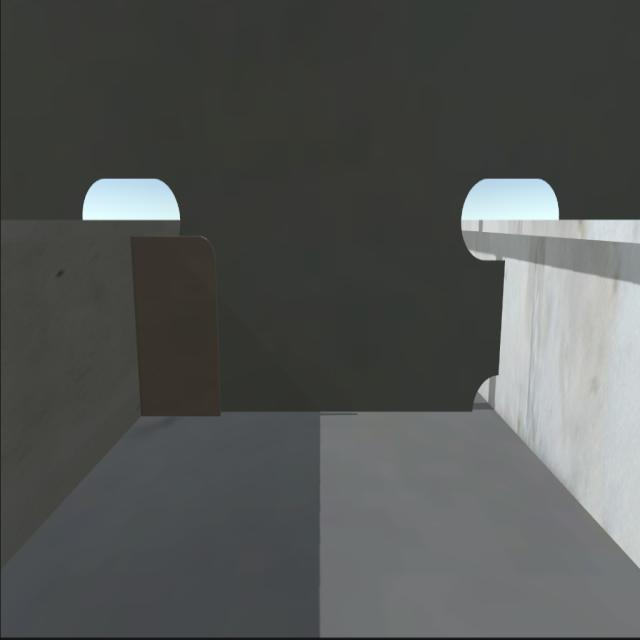fillet_hole: (468, 371, 505, 412)
fillet_yong_jeop_jang: (132, 406, 479, 418)
longi_yong_jeop_jang: (124, 231, 148, 416), (485, 260, 515, 377)
plate_CP05: (131, 234, 220, 421)
